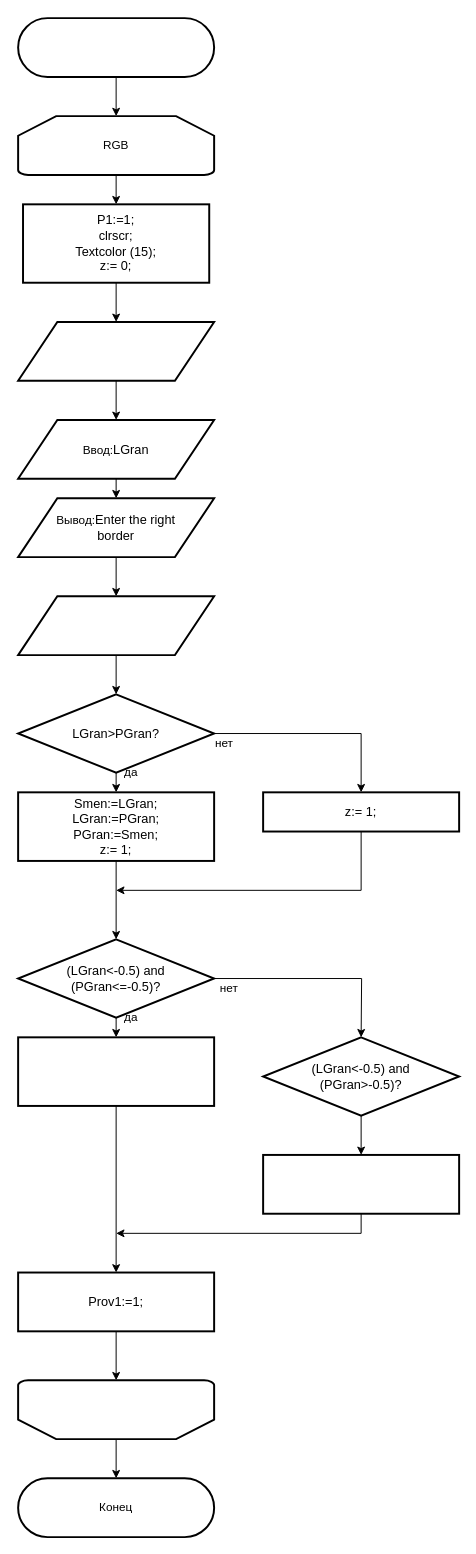
This 476x1554 diagram has some shape labels left out. The shapes that lost their labels are listed below. From the top down, each one's box as (x1, y1, x2, y2) in pixels, then its label:
(17, 17, 215, 77): ProcVod Начало
(17, 320, 215, 381): Вывод: Enter the left border'
(17, 595, 215, 656): Ввод: PGran
(17, 1036, 215, 1106): P1:=0;
(262, 1153, 460, 1214): LGran:=-1.5;
(17, 1379, 215, 1440): z = 1; RGB
